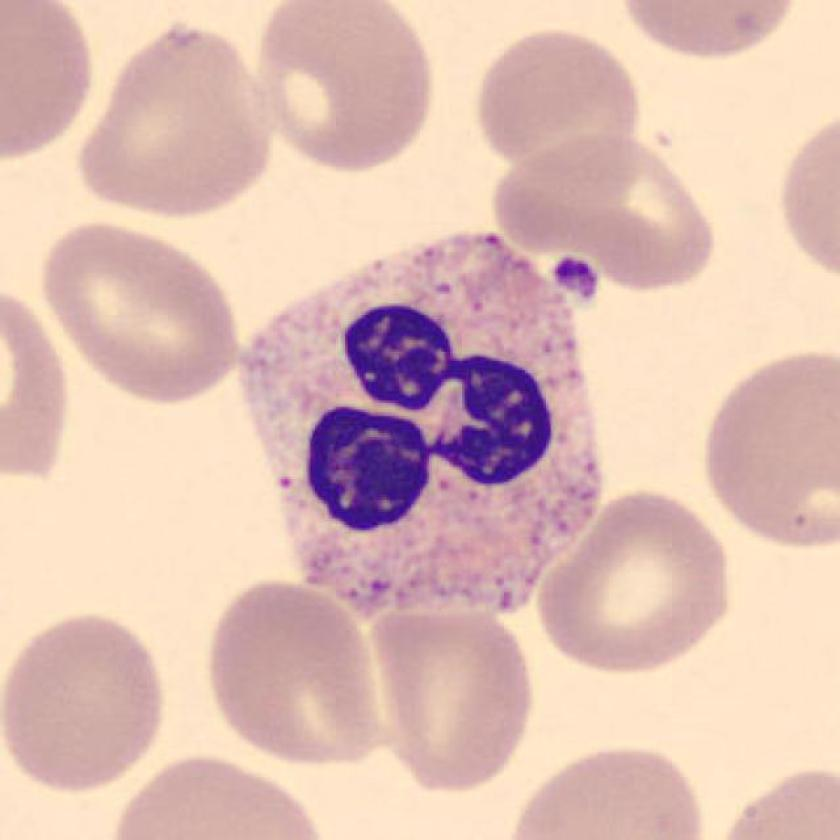neutrophil: (242, 239, 601, 623)
